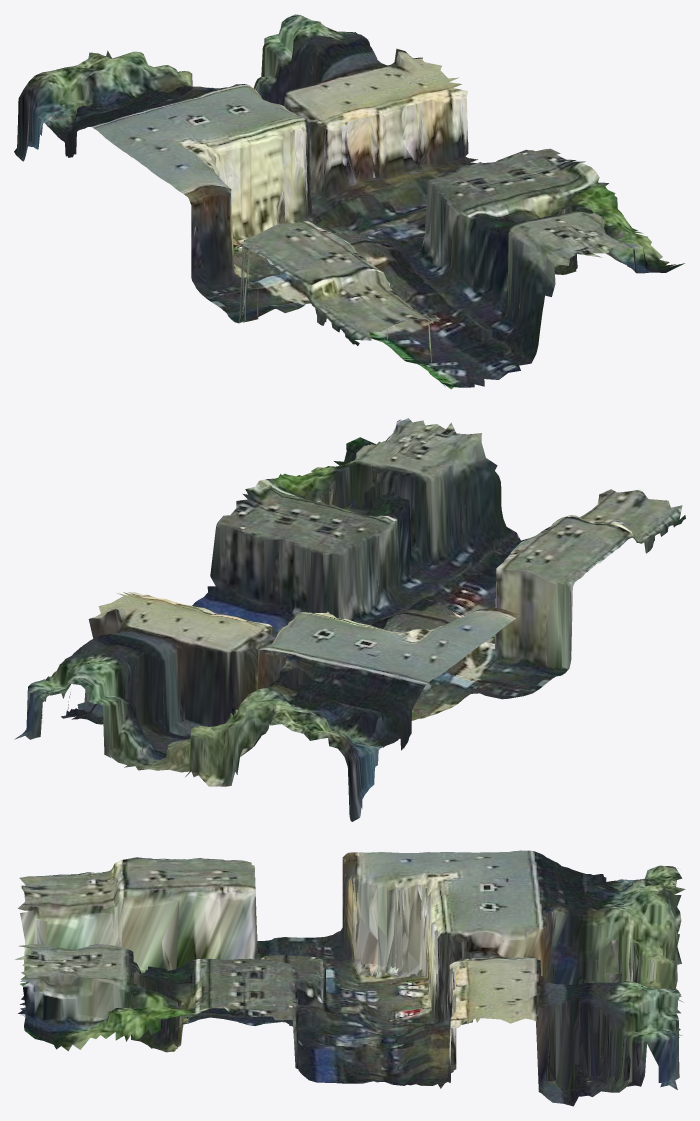
File: Tile_000_003_L14_2341.glb
3 views of the same model, one above another, from view 1: azimuth 30°, elevation 25°; view 2: azimuth 150°, elevation 25°; view 3: azimuth 270°, elevation 25° (orthographic). The views are drawn at different scales.
Parts seen in each view (by area): view 1: rtc; view 2: rtc; view 3: rtc.
Part boxes in pixels (x1,y1,x2,y2): rtc: (14,14,684,389); rtc: (14,418,685,821); rtc: (15,850,685,1106).
Size of the model in its own units: 65.19 by 19.94 by 115.
1 material, 1 textured.
